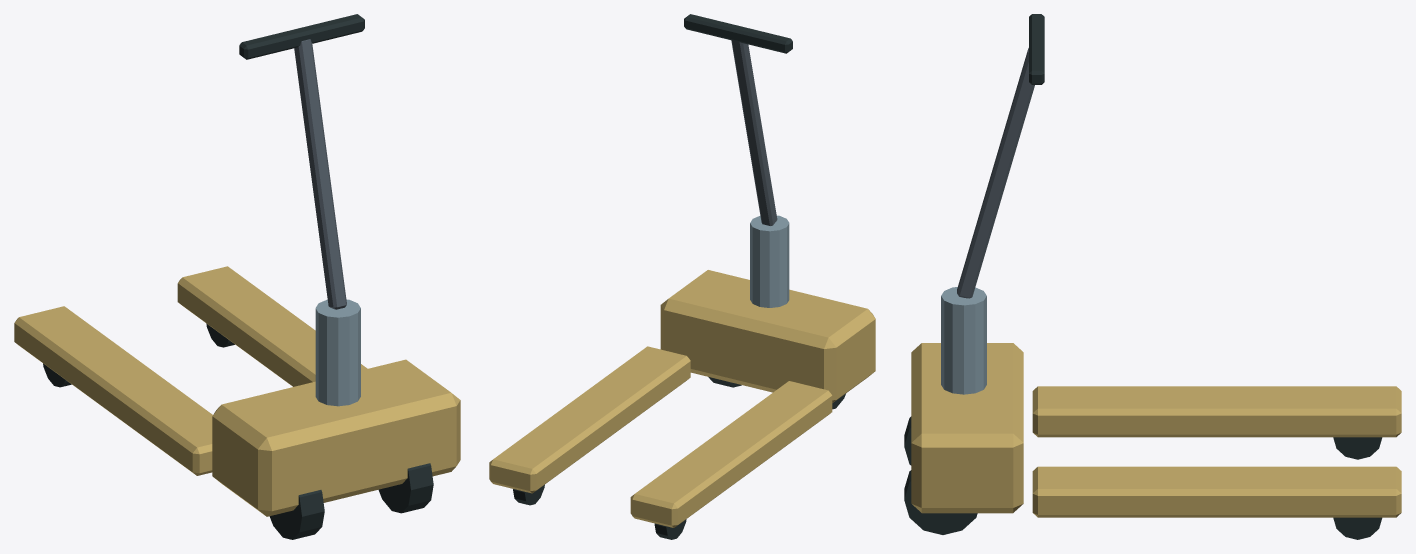
Rendered from compact_pallet_jack.glb.
The picture shows the model from 3 angles, left to right: view 1: azimuth 30°, elevation 25°; view 2: azimuth 150°, elevation 25°; view 3: azimuth 270°, elevation 25°; orthographic projection. The views are drawn at different scales.
Parts seen in each view (by area): view 1: pump_body, fork_arm (×2), handle_stem, pump_column, rear_wheel (×2), handle_grip; view 2: fork_arm (×2), pump_body, pump_column, handle_stem, handle_grip; view 3: fork_arm (×2), pump_body, pump_column, handle_stem, caster_wheel (×2), rear_wheel, handle_grip.
Part boxes in pixels (box(x1,y1,x2,y2)): pump_body: box(212, 359, 460, 516); fork_arm (×2): box(14, 266, 367, 475); handle_stem: box(294, 39, 346, 309); pump_column: box(315, 299, 360, 406); rear_wheel (×2): box(269, 463, 433, 539); handle_grip: box(239, 14, 364, 59); fork_arm (×2): box(489, 346, 832, 527); pump_body: box(660, 270, 875, 402); pump_column: box(750, 215, 789, 307); handle_stem: box(731, 40, 777, 225); handle_grip: box(684, 14, 792, 53); fork_arm (×2): box(1032, 386, 1401, 517); pump_body: box(911, 343, 1023, 513); pump_column: box(941, 287, 986, 394); handle_stem: box(957, 48, 1034, 298); caster_wheel (×2): box(1333, 437, 1382, 539); rear_wheel: box(904, 470, 977, 534); handle_grip: box(1029, 14, 1044, 84).
Size of the model in its own units: 0.72 by 1.45 by 1.42.
